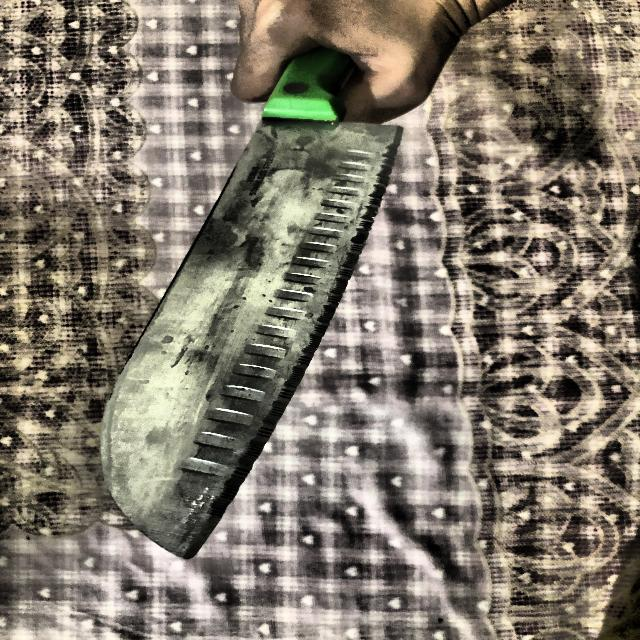knife: (106, 47, 404, 560)
